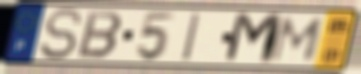5: (135, 10, 178, 63)
B: (75, 10, 125, 61)
I: (180, 11, 204, 63)
M: (221, 11, 286, 67), (268, 15, 328, 63)
S: (38, 7, 86, 62)
